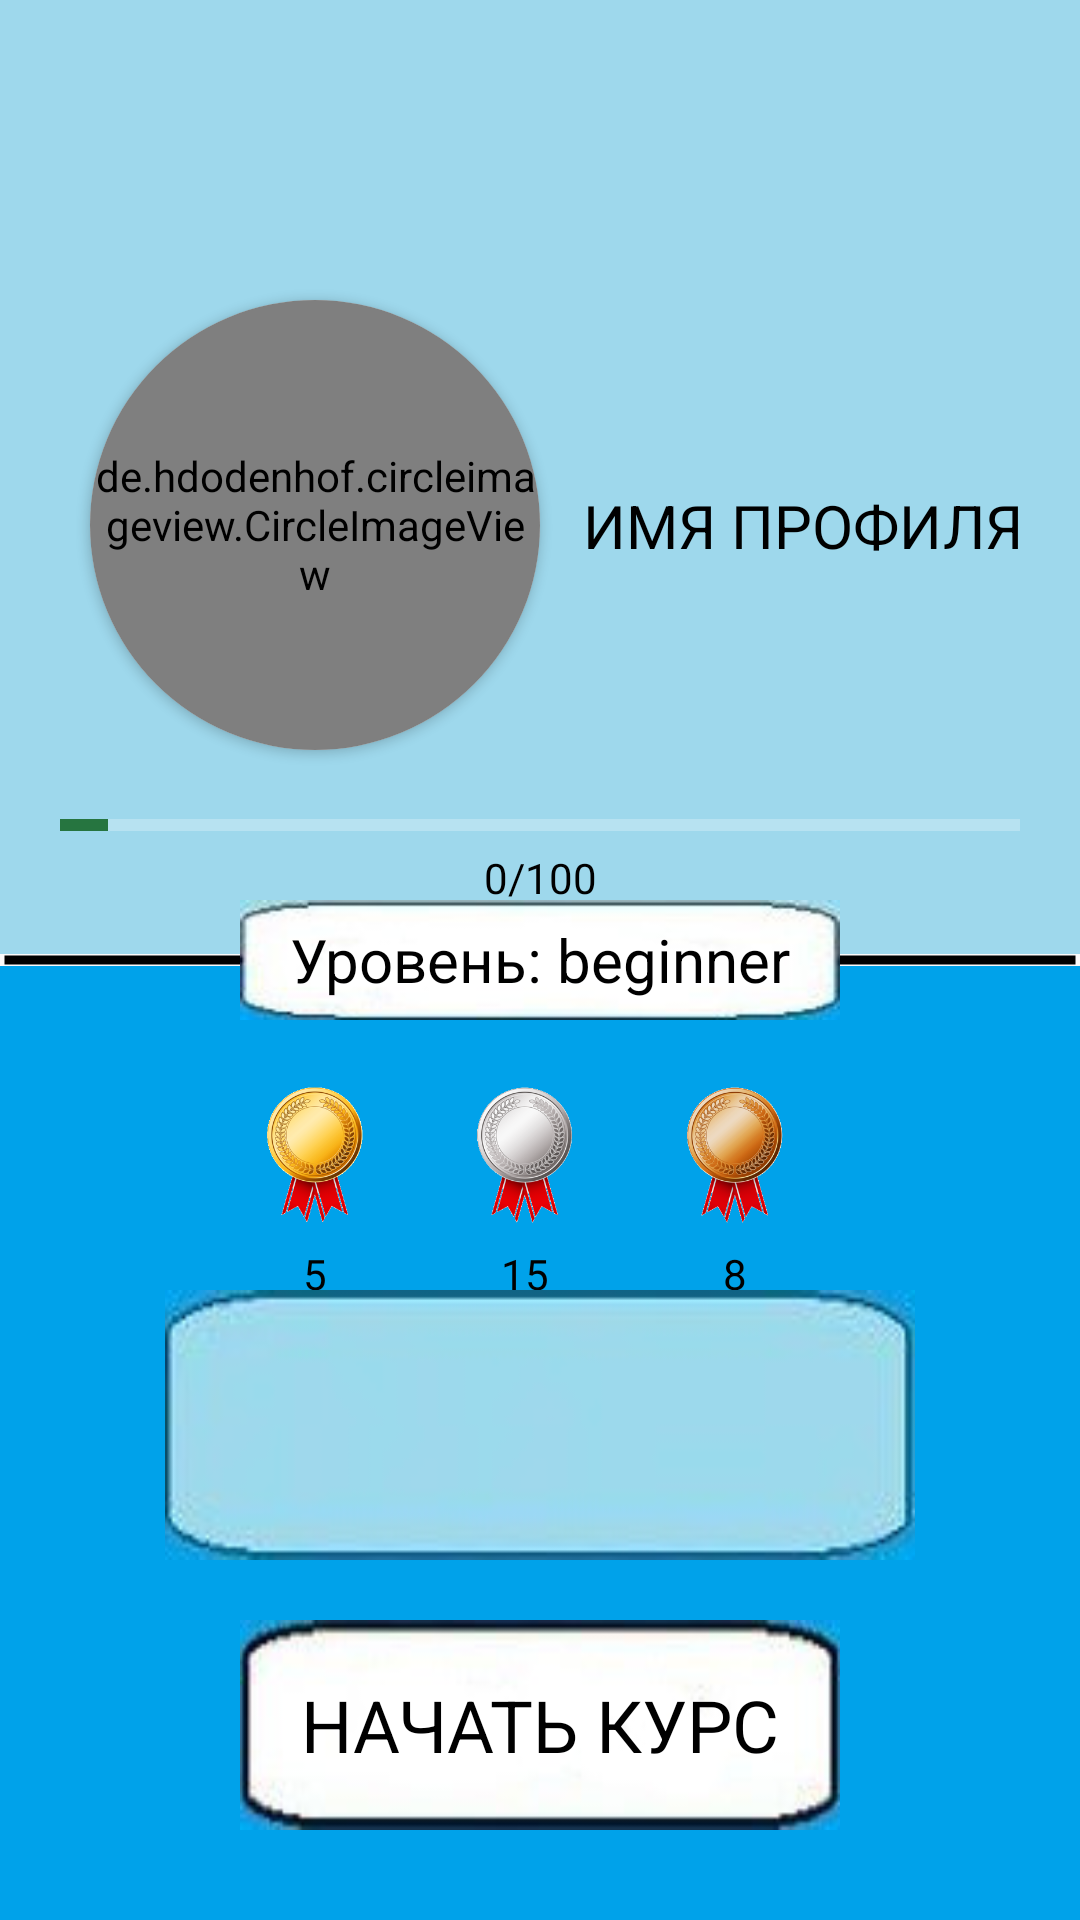

Named icons in this screenshot (1080 × 1920) and their bounding boxes, (x1, y1, x2, y2):
bronze medals: (687, 1087, 783, 1223)
gold medals: (267, 1087, 363, 1222)
silver medals: (477, 1087, 572, 1223)
